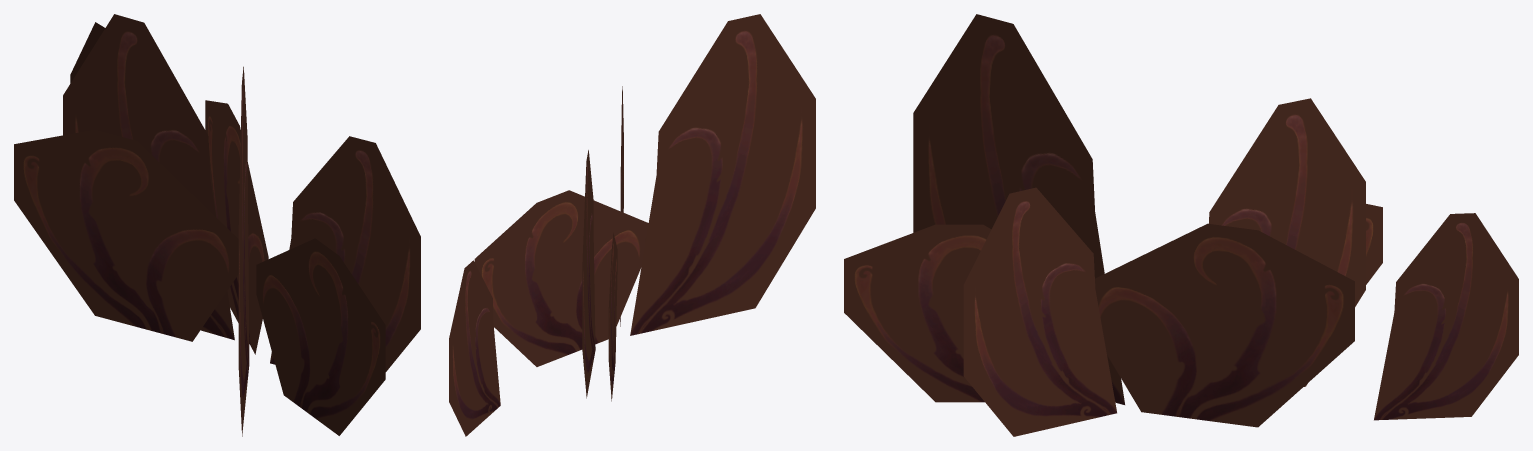
Rendered from plant12.fbx.
3 renders of one model, left to right at view 1: azimuth 30°, elevation 25°; view 2: azimuth 150°, elevation 25°; view 3: azimuth 270°, elevation 25°, orthographic. The views are drawn at different scales.
Parts seen in each view (by area): view 1: plant12; view 2: plant12; view 3: plant12.
Part boxes in pixels (box(x1,y1,x2,y2)): plant12: box(14, 14, 420, 436); plant12: box(449, 14, 815, 436); plant12: box(844, 14, 1518, 436).
Bounding box in the file's own units: 74.18 × 122 × 212.
